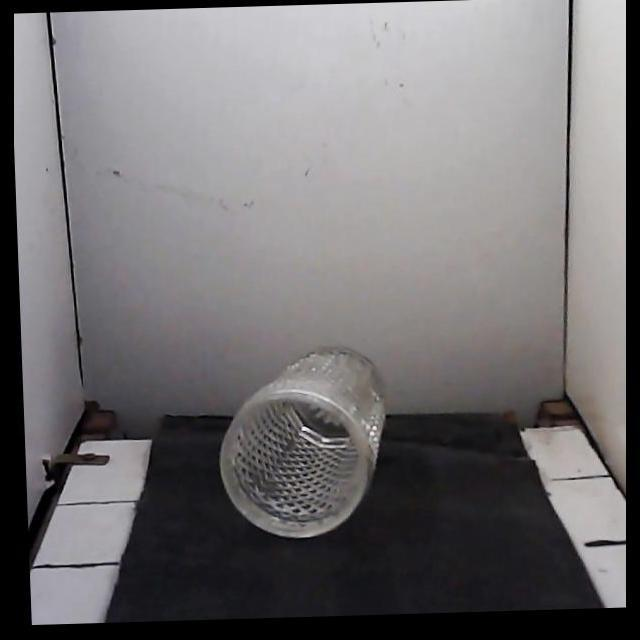vidro: (219, 347, 384, 537)
